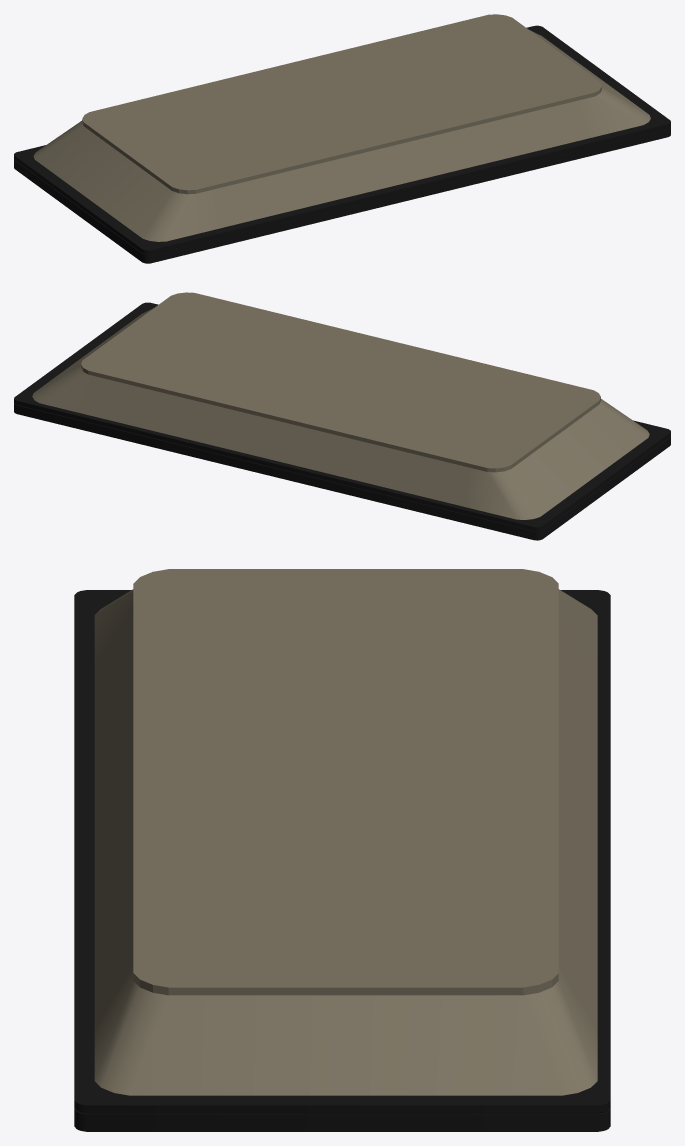
File: SM_roof_exterior.FBX
The picture shows the model from 3 angles, top to bottom: view 1: azimuth 30°, elevation 25°; view 2: azimuth 150°, elevation 25°; view 3: azimuth 270°, elevation 25°; orthographic projection. The views are drawn at different scales.
Parts seen in each view (by area): view 1: roof_exterior; view 2: roof_exterior; view 3: roof_exterior.
Part boxes in pixels (x1=…): roof_exterior: x1=14, y1=14, x2=670, y2=263; roof_exterior: x1=14, y1=292, x2=670, y2=540; roof_exterior: x1=74, y1=569, x2=610, y2=1131.
Size of the model in its own units: 898 by 78.28 by 394.
